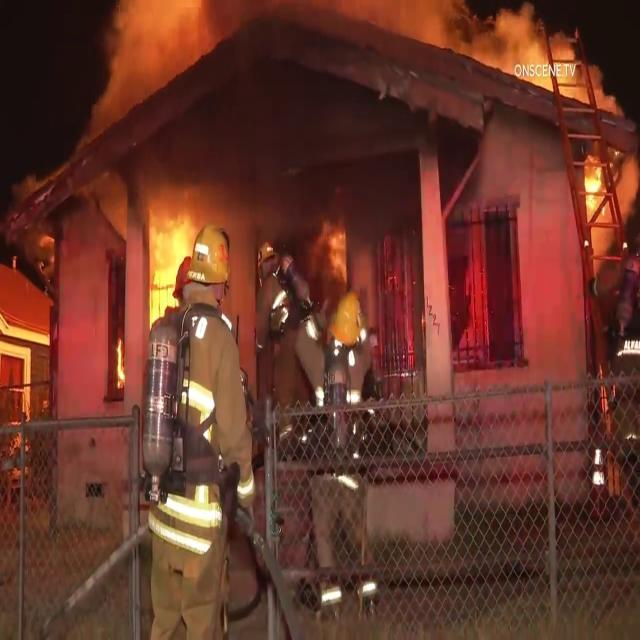Fire: (143, 216, 182, 308), (314, 227, 354, 284)
Smoke: (110, 9, 566, 154)
